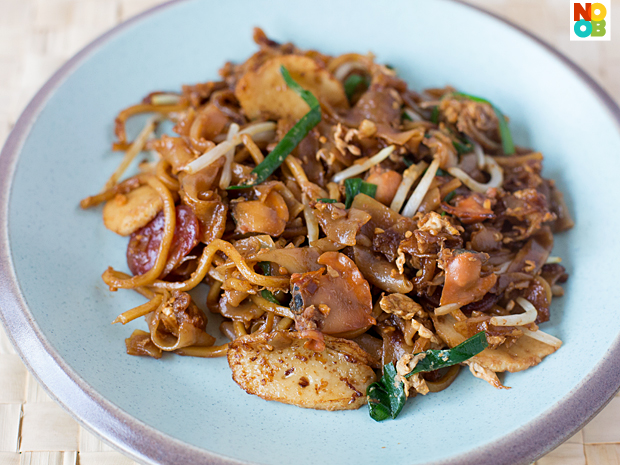Char Kway Teow: (89, 35, 577, 403)
